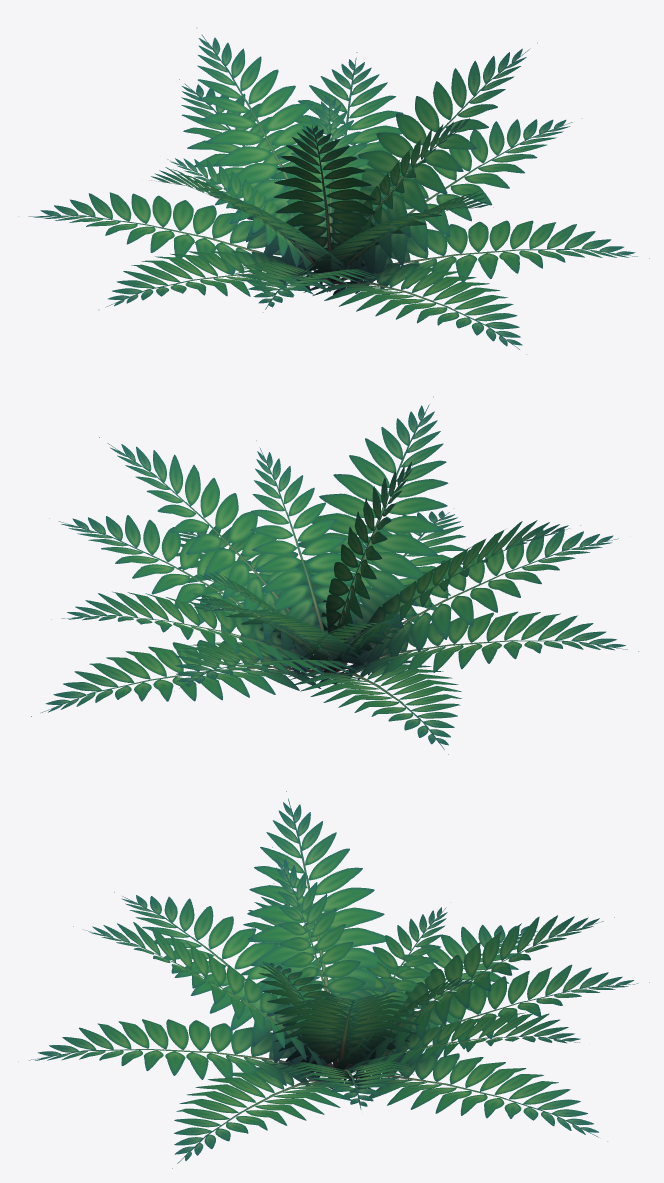
Rendered from ENV1310001.FBX.
3 views of the same model, one above another, from view 1: azimuth 30°, elevation 25°; view 2: azimuth 150°, elevation 25°; view 3: azimuth 270°, elevation 25° (orthographic). The views are drawn at different scales.
Parts seen in each view (by area): view 1: smENV1310001; view 2: smENV1310001; view 3: smENV1310001.
Boxes of the visible parts, x1=… form: smENV1310001: x1=28, y1=27, x2=649, y2=354; smENV1310001: x1=31, y1=396, x2=638, y2=754; smENV1310001: x1=29, y1=791, x2=649, y2=1168.
Bounding box in the file's own units: 110 × 40.17 × 112.
1 material, 1 textured.
